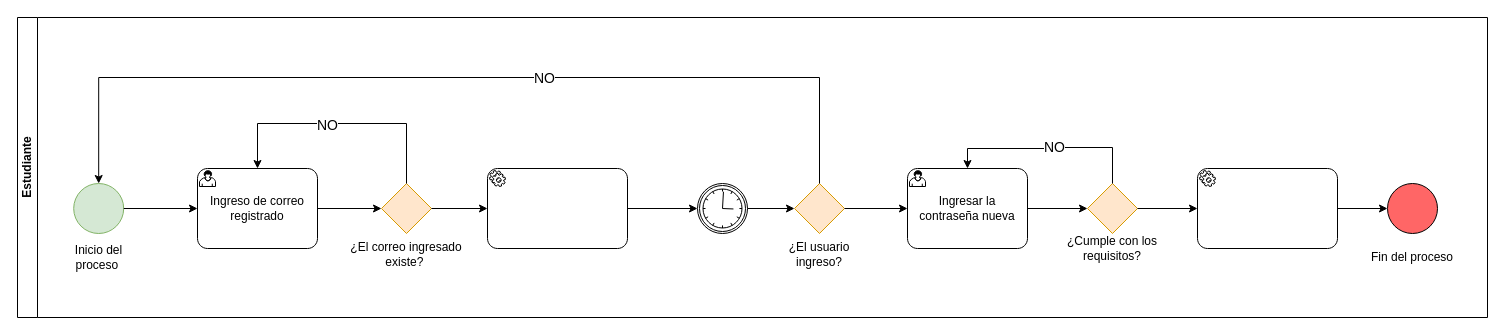
Some shapes in this 1505 by 335 pixel diagram are drawn without their labels. Each missing label, with the box of its shape:
Actualización de contraseña: (1196, 168, 1338, 248)
Envió de enlace de restablecimiento: (486, 168, 628, 248)
